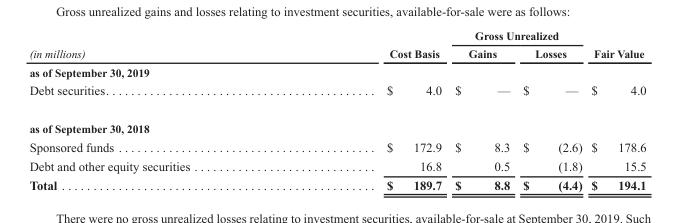table: (28, 28, 645, 191)
table column: (28, 28, 287, 191), (287, 28, 447, 191), (515, 28, 586, 191), (447, 28, 515, 191), (586, 28, 645, 191)
table column header: (28, 28, 645, 62)
table projected row header: (28, 109, 645, 137), (28, 62, 645, 80)
table row: (28, 80, 645, 109), (28, 109, 645, 137), (28, 43, 645, 62), (28, 137, 645, 156), (28, 156, 645, 175), (28, 62, 645, 80), (28, 175, 645, 191), (28, 28, 645, 43)
table spanning cell: (28, 28, 287, 62), (287, 28, 447, 62), (447, 28, 586, 43), (586, 28, 645, 62)
